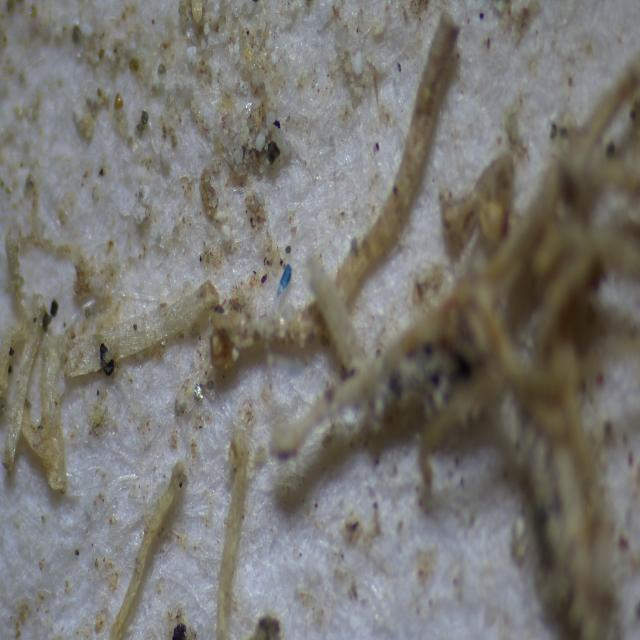microplastic: (272, 262, 298, 299)
